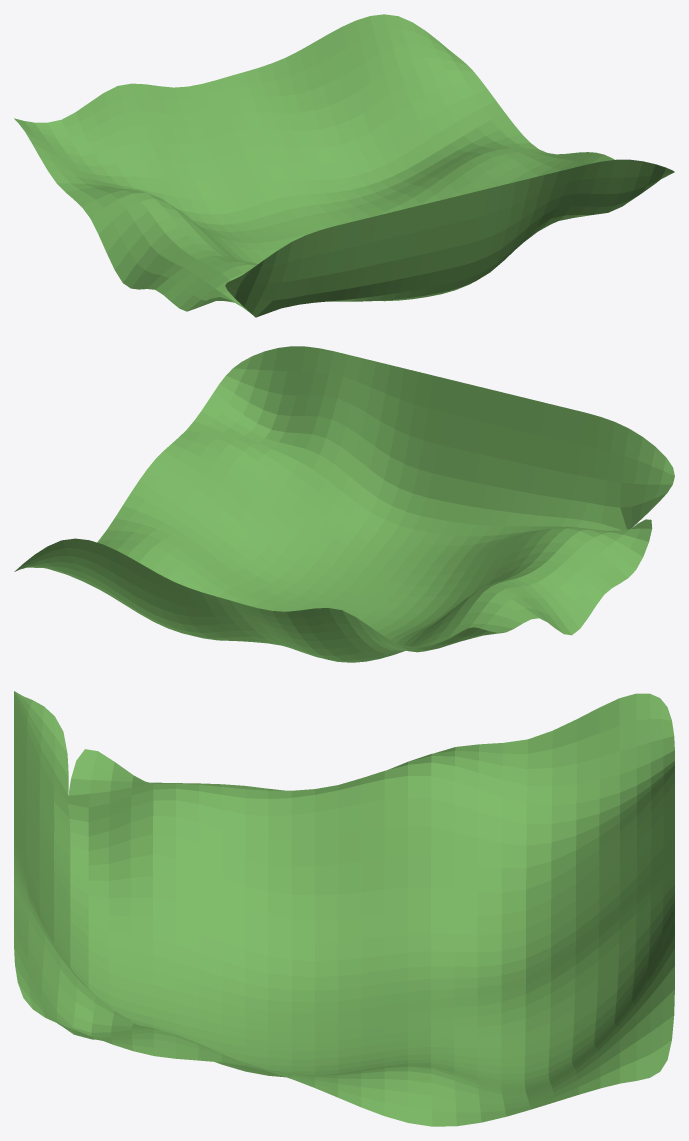
The model's file is Geniu_Map.fbx.
3 renders of one model, top to bottom at view 1: azimuth 30°, elevation 25°; view 2: azimuth 150°, elevation 25°; view 3: azimuth 270°, elevation 25°, orthographic. The views are drawn at different scales.
Parts seen in each view (by area): view 1: Plane; view 2: Plane; view 3: Plane.
Part boxes in pixels (x1,y1,x2,y2): Plane: (14,14,674,317); Plane: (14,346,674,662); Plane: (14,691,674,1126).
Size of the model in its own units: 1687 by 548 by 1500.
